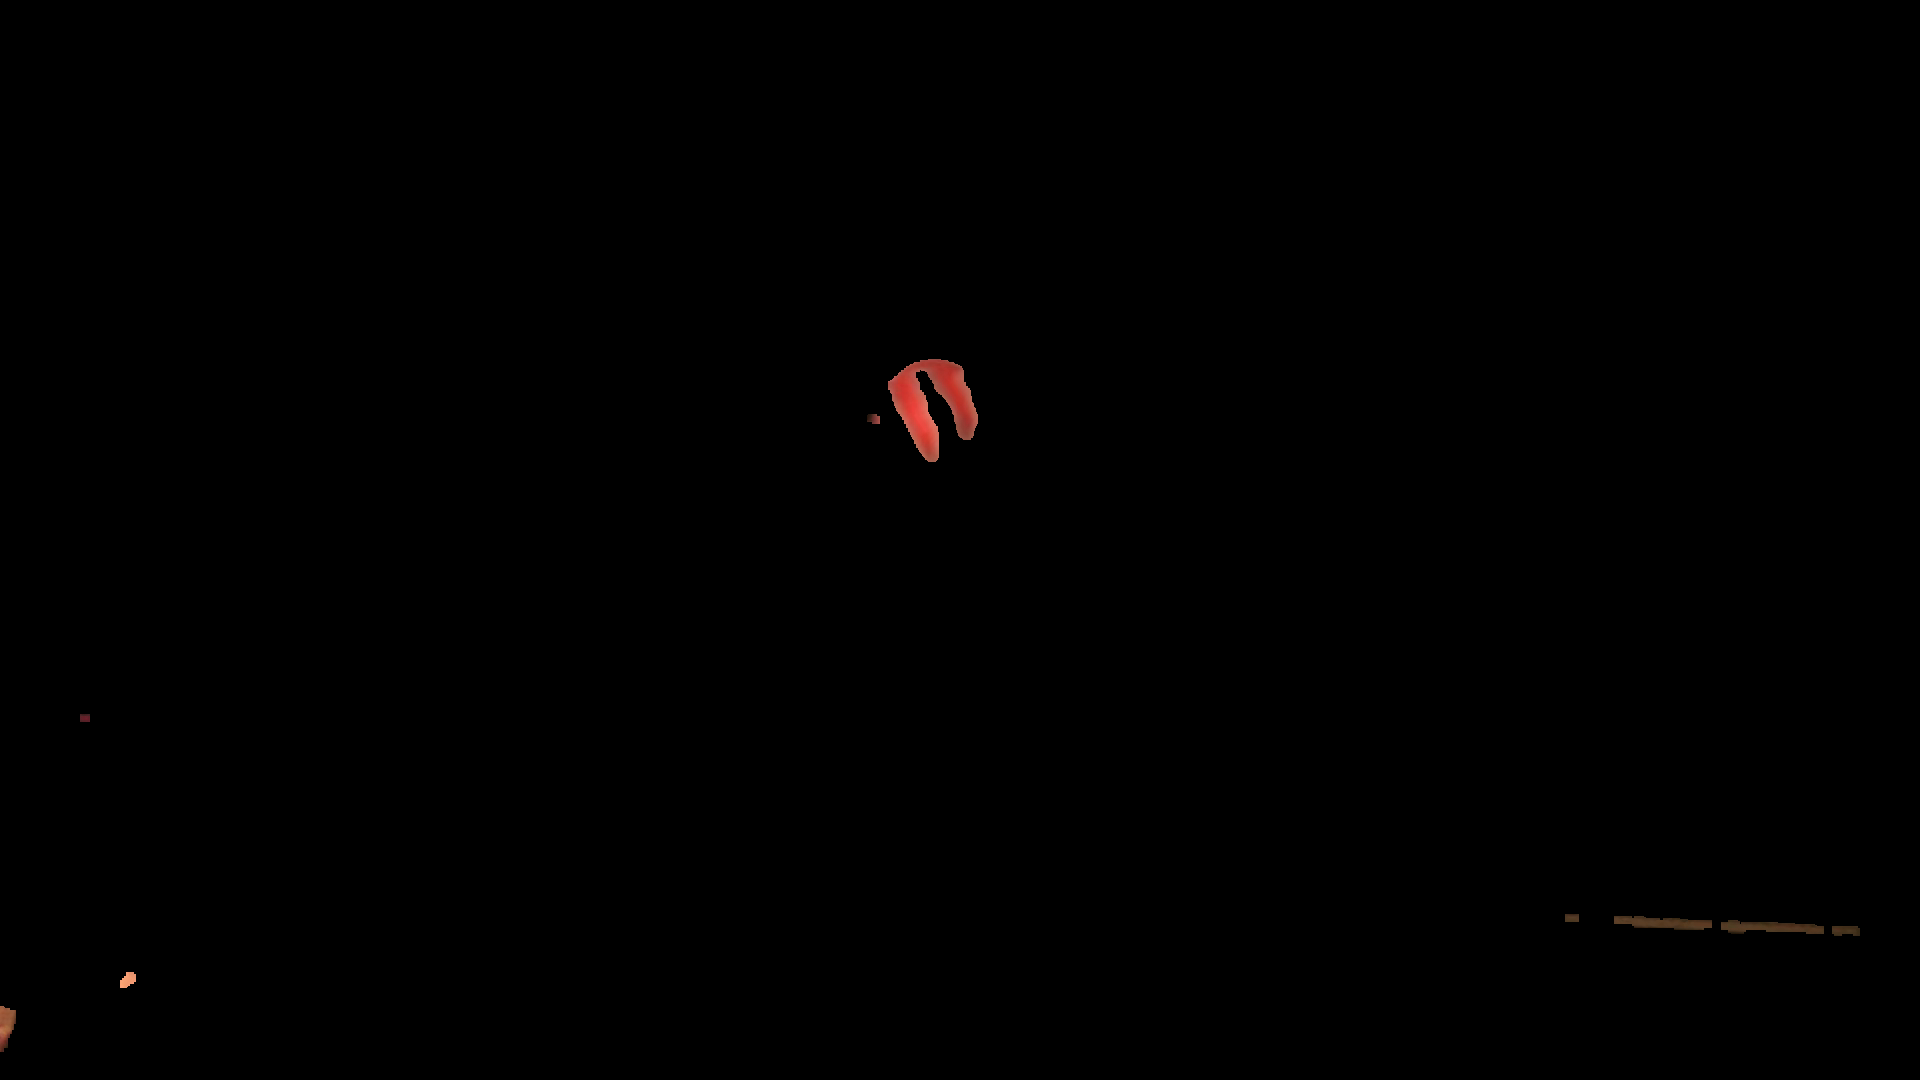Ball: (880, 357, 1001, 479)
